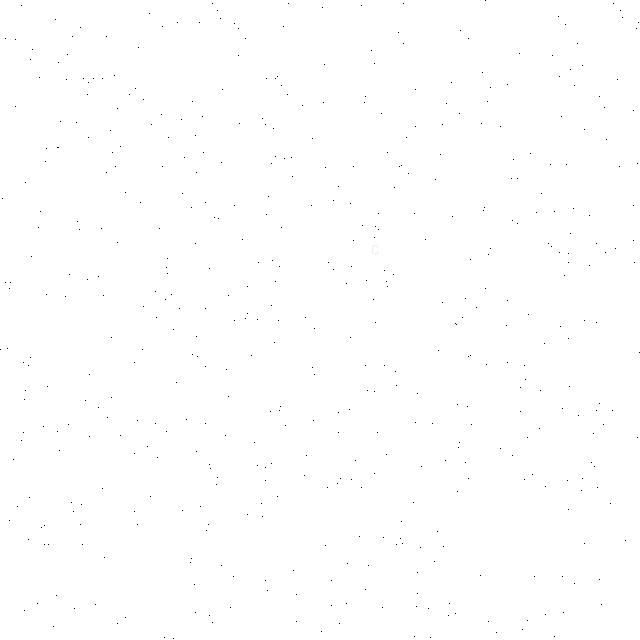Blouse_deep: (93, 125, 537, 516)
